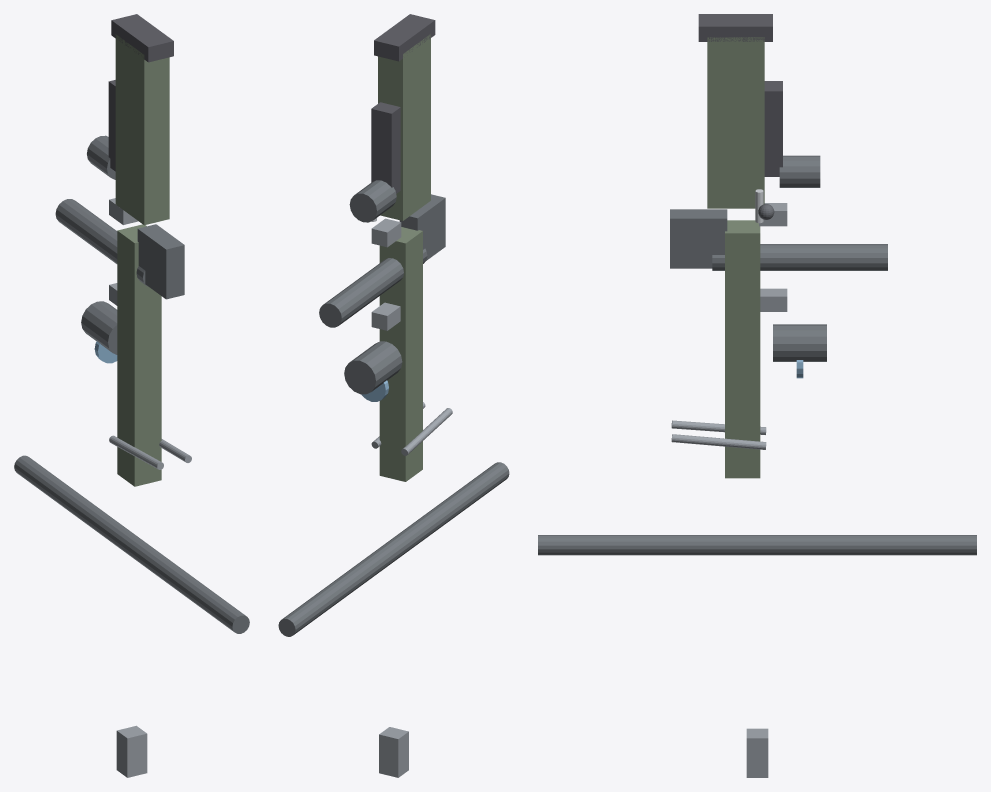
File: awp.glb
The picture shows the model from 3 angles, left to right: view 1: azimuth 30°, elevation 25°; view 2: azimuth 150°, elevation 25°; view 3: azimuth 270°, elevation 25°; orthographic projection. The views are drawn at different scales.
Parts seen in each view (by area): view 1: Weapon_AWP; view 2: Weapon_AWP; view 3: Weapon_AWP.
Boxes of the visible parts, x1,y1,x2,y2 form: Weapon_AWP: [14, 14, 249, 777]; Weapon_AWP: [278, 14, 509, 777]; Weapon_AWP: [538, 14, 976, 777].
Bounding box in the file's own units: 0.099 × 1.23 × 0.65.
